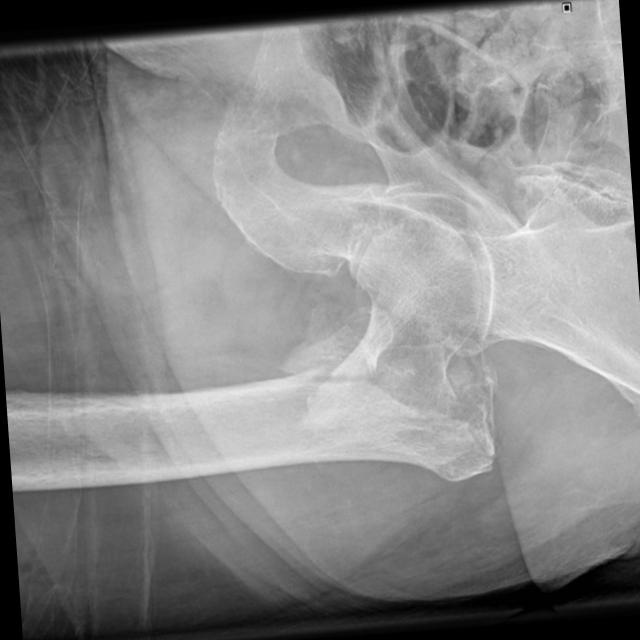left-intertrochanteric: (220, 337, 498, 482), (301, 212, 478, 402)
left-lesser-trochanter: (276, 305, 392, 377)
